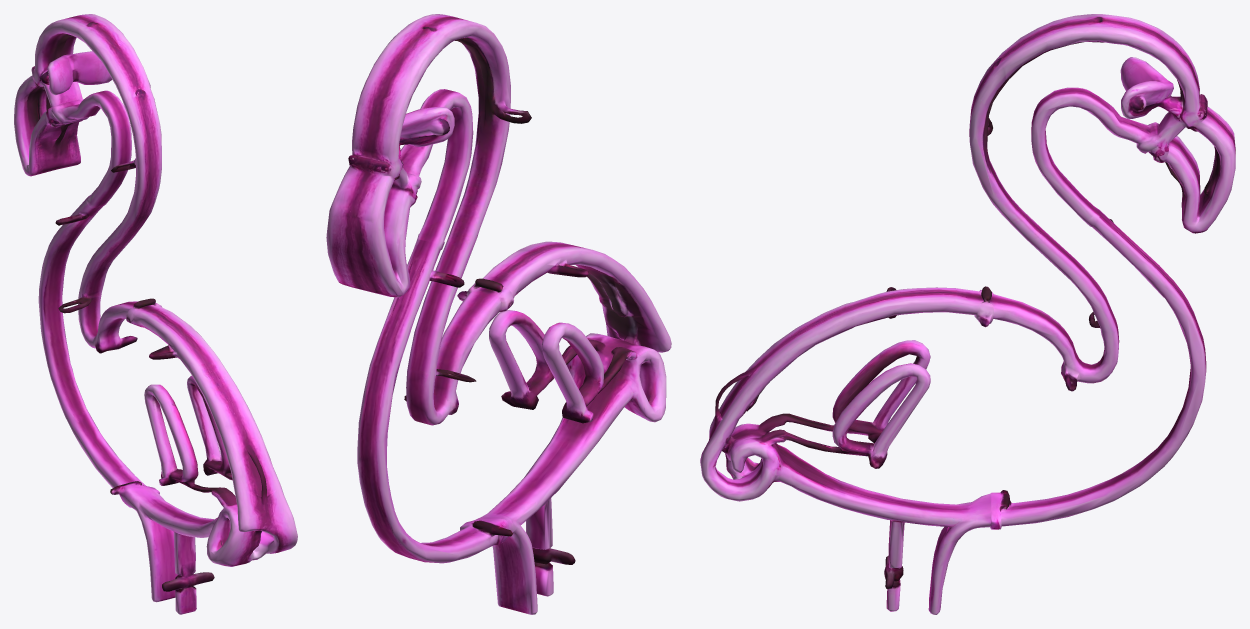
File: flamingo_sign.glb
3 views of the same model, side by side, from view 1: azimuth 30°, elevation 25°; view 2: azimuth 150°, elevation 25°; view 3: azimuth 270°, elevation 25° (orthographic). The views are drawn at different scales.
Visible parts, largest first — view 1: tripo_node_b3c04f5c-458f-4bc0-82ad-cbb078409f0a; view 2: tripo_node_b3c04f5c-458f-4bc0-82ad-cbb078409f0a; view 3: tripo_node_b3c04f5c-458f-4bc0-82ad-cbb078409f0a.
Part boxes in pixels (box(x1,y1,x2,y2)): tripo_node_b3c04f5c-458f-4bc0-82ad-cbb078409f0a: box(14, 14, 297, 614); tripo_node_b3c04f5c-458f-4bc0-82ad-cbb078409f0a: box(326, 14, 671, 614); tripo_node_b3c04f5c-458f-4bc0-82ad-cbb078409f0a: box(700, 14, 1235, 614).
Bounding box in the file's own units: 0.1539 × 1 × 0.8244.
1 material, 1 textured.
